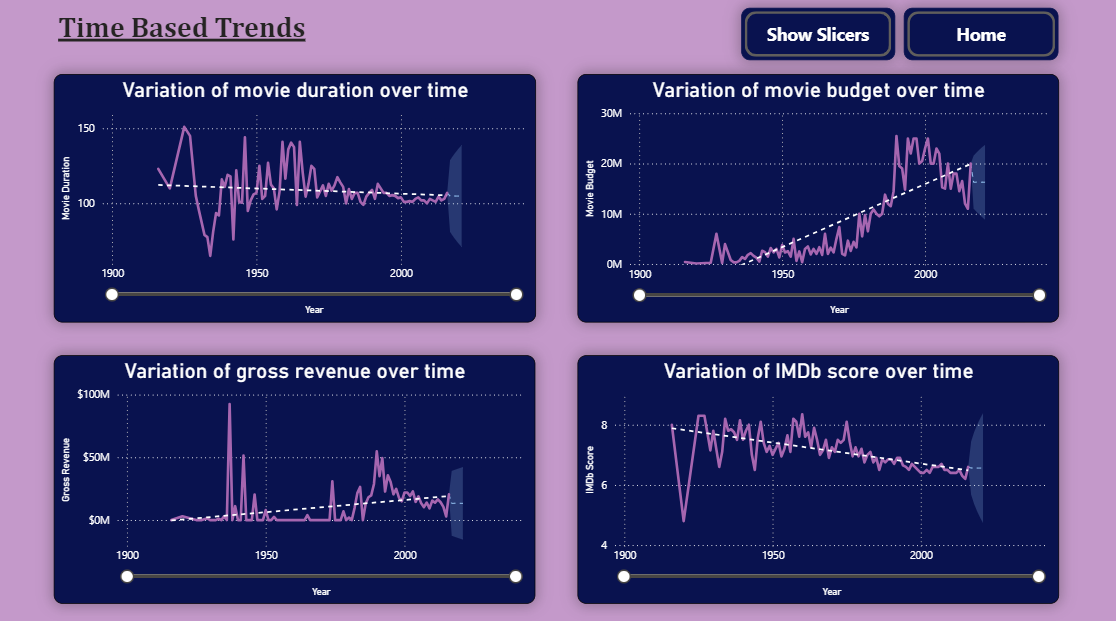

This screenshot's page, from the dashboard's own definition file:
{"tool":"powerbi","page":{"name":"Time Based Trends","canvas":[1280,720],"ordinal":6},"visuals":[{"type":"textbox","box":[61.4,14.3,318.6,61.4],"z":0},{"type":"lineChart","title":"Variation of movie duration over time","fields":{"Category":["movie_data.title_year"],"Y":["Median(movie_data.duration)"]},"box":[61,92.1,551.1,283.6],"z":1000},{"type":"lineChart","title":"Variation of movie budget over time","fields":{"Category":["movie_data.title_year"],"Y":["Median(movie_data.budget)"]},"box":[660,91.4,550,284.3],"z":2000},{"type":"lineChart","title":"Variation of gross revenue over time","fields":{"Category":["movie_data.title_year"],"Y":["Median(movie_data.gross)"]},"box":[61.4,412.9,550,284.3],"z":3000},{"type":"lineChart","title":"Variation of IMDb score over time","fields":{"Category":["movie_data.title_year"],"Y":["Median(movie_data.imdb_score)"]},"box":[660,412.9,550,284.3],"z":4000},{"type":"actionButton","title":"Home Button","box":[1032.9,15.7,177.1,60],"z":5000},{"type":"actionButton","title":"Show Slicer Button","box":[847.1,15.7,175.7,60],"z":6000}]}

Visuals, with their boxes in screenshot pixels (x1, y1, x2, y2), scaled from the page's 1280x720 canvas onto the 1116x621 screenshot:
textbox: left=54, top=12, right=331, bottom=65
"Variation of movie duration over time" lineChart: left=53, top=79, right=534, bottom=324
"Variation of movie budget over time" lineChart: left=575, top=79, right=1055, bottom=324
"Variation of gross revenue over time" lineChart: left=54, top=356, right=533, bottom=601
"Variation of IMDb score over time" lineChart: left=575, top=356, right=1055, bottom=601
"Home Button" actionButton: left=901, top=14, right=1055, bottom=65
"Show Slicer Button" actionButton: left=739, top=14, right=892, bottom=65
